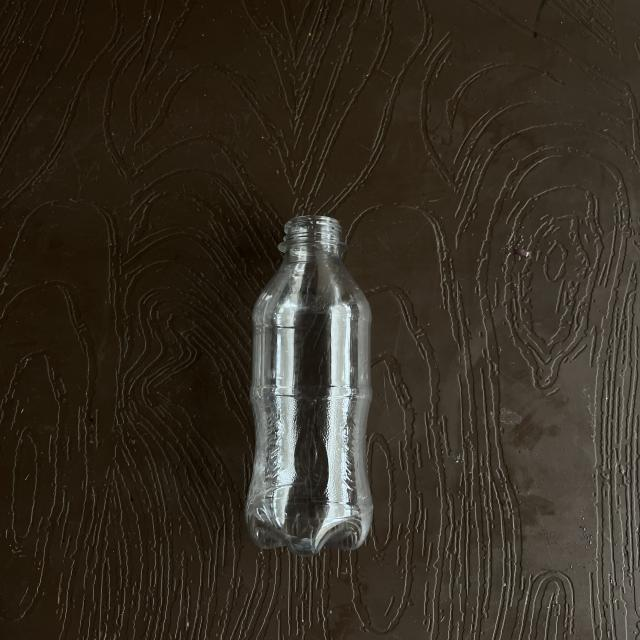PET_ClearBottle: (236, 215, 387, 639)
